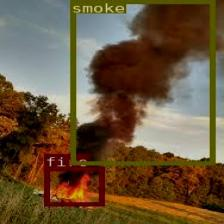fire: (43, 167, 103, 206)
smoke: (69, 0, 213, 164)
